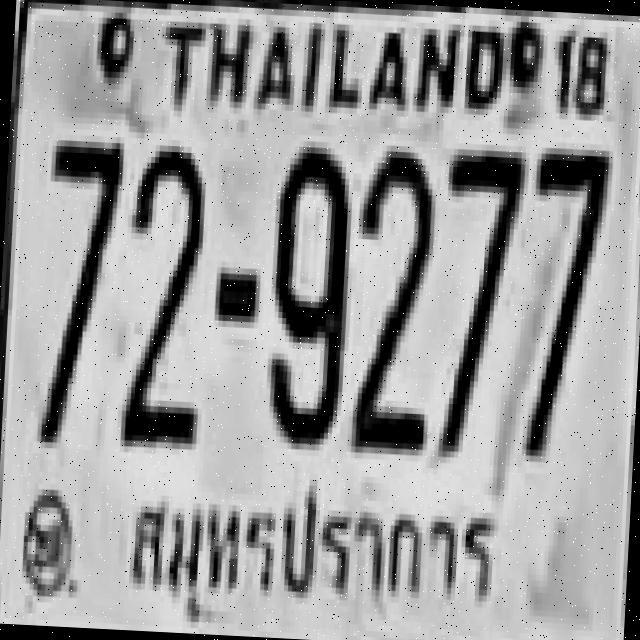2: (349, 144, 436, 444), (119, 141, 206, 435), (348, 147, 434, 423)
7: (431, 142, 522, 448), (520, 142, 608, 452), (36, 134, 122, 440), (40, 134, 120, 392), (527, 142, 606, 358), (437, 142, 522, 336), (42, 134, 120, 339)
9: (264, 140, 351, 446)
SamutPrakan: (118, 472, 508, 624)
